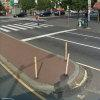Crosswalk: (2, 16, 46, 39)
